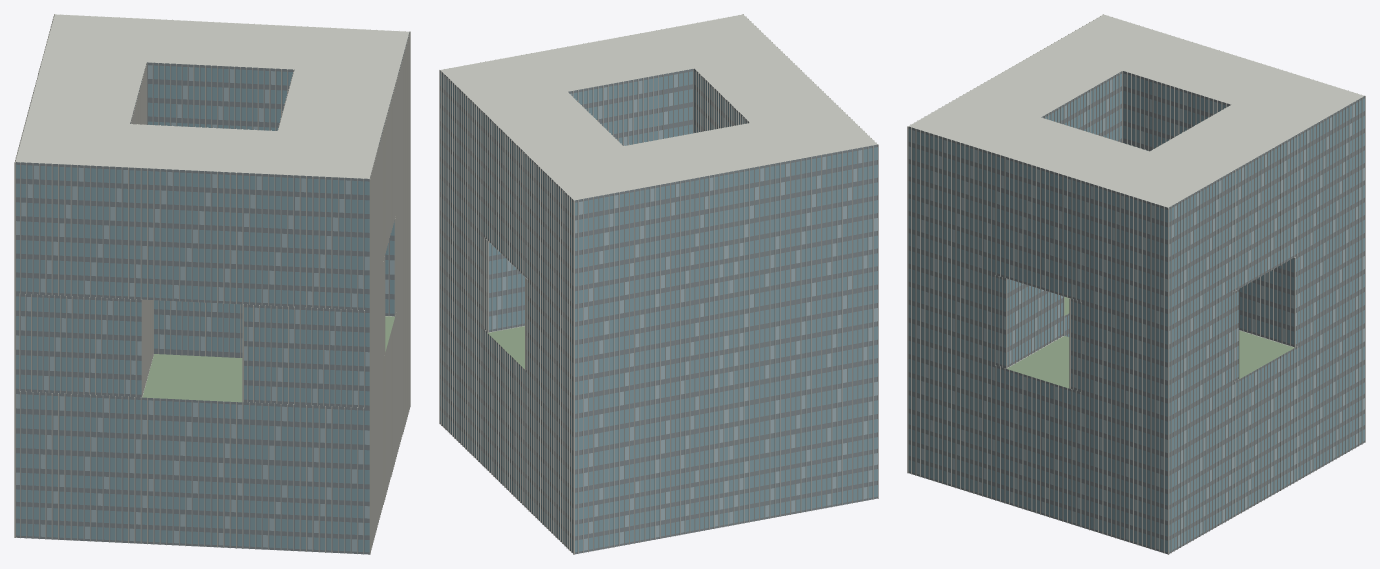
Rendered from civic-17789974-1223-44f7-9bc0-4d302d8cb742.glb.
3 views of the same model, side by side, from view 1: azimuth 30°, elevation 25°; view 2: azimuth 150°, elevation 25°; view 3: azimuth 270°, elevation 25° (orthographic). The views are drawn at different scales.
Visible parts, largest first — view 1: civic-17789974-1223-44f7-9bc0-4d302d8cb742; view 2: civic-17789974-1223-44f7-9bc0-4d302d8cb742; view 3: civic-17789974-1223-44f7-9bc0-4d302d8cb742.
Part boxes in pixels (<box>): civic-17789974-1223-44f7-9bc0-4d302d8cb742: <box>14,14,410,554</box>; civic-17789974-1223-44f7-9bc0-4d302d8cb742: <box>439,14,878,554</box>; civic-17789974-1223-44f7-9bc0-4d302d8cb742: <box>907,14,1365,554</box>.
Bounding box in the file's own units: 132 × 110 × 132.
